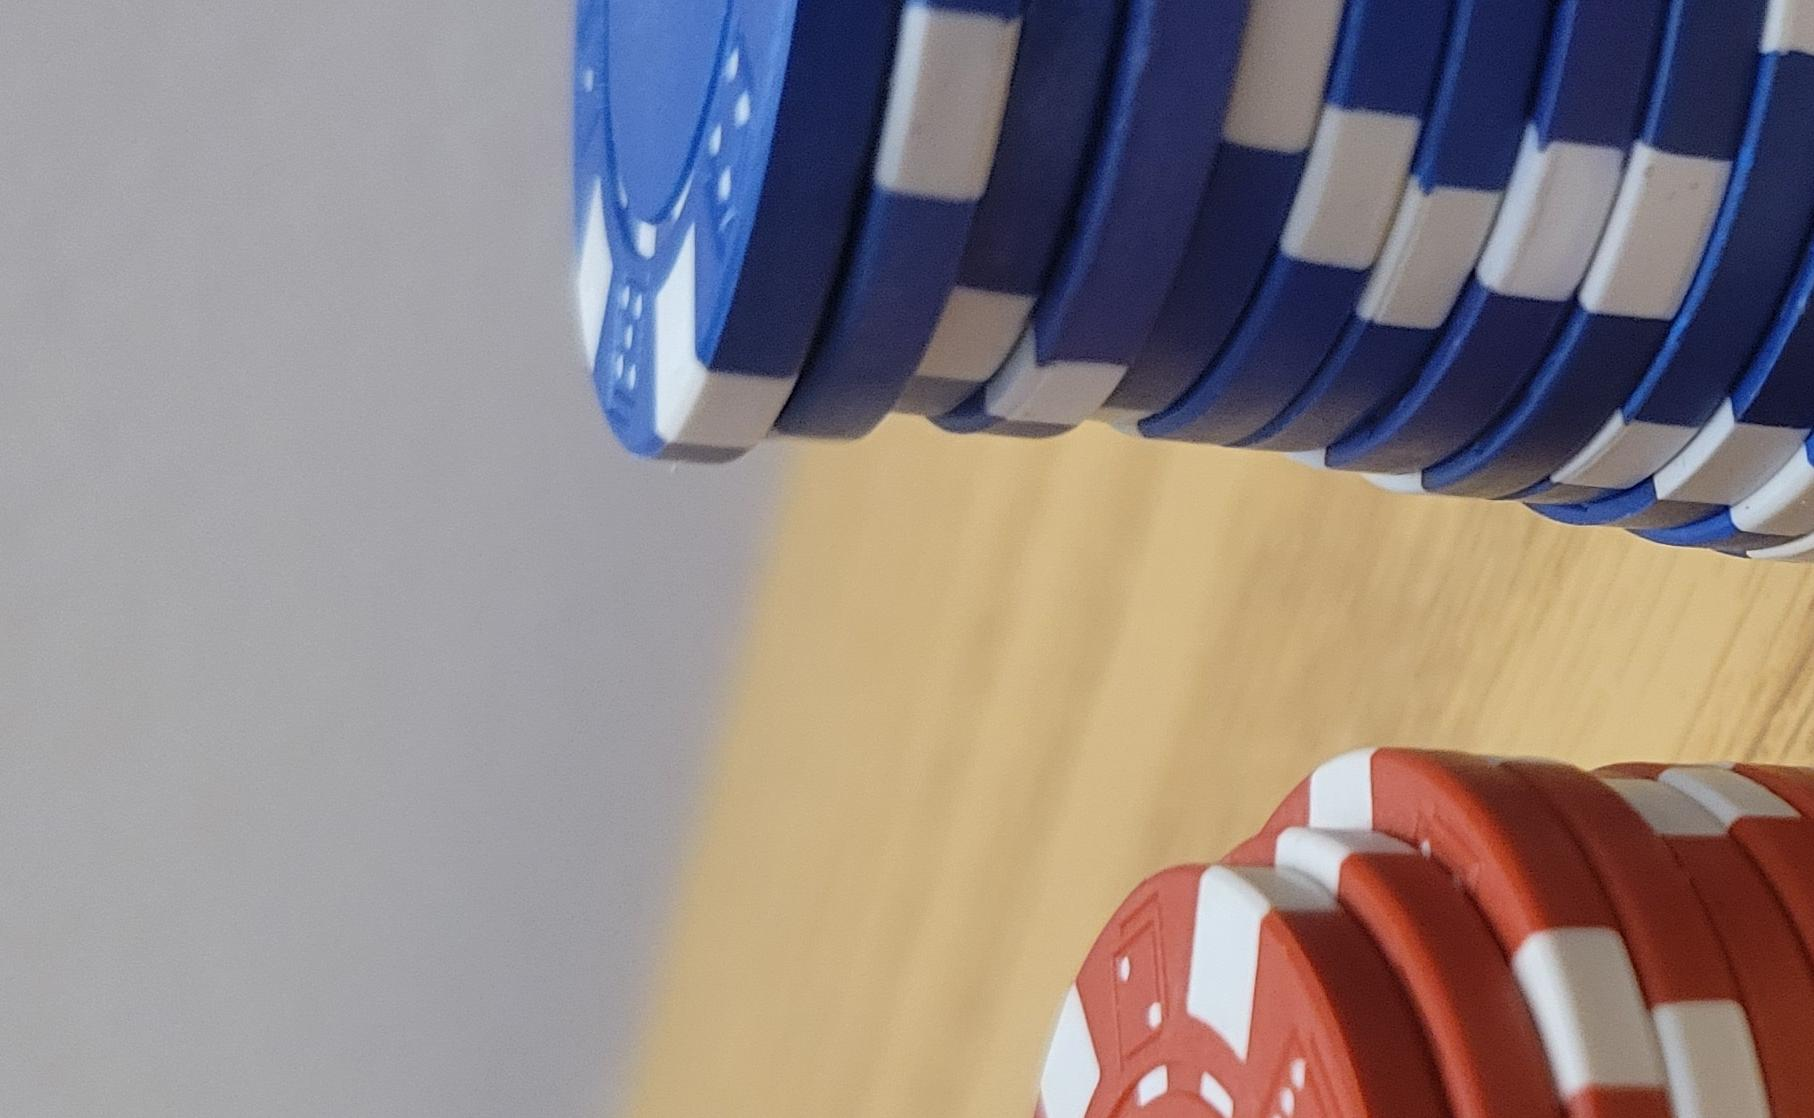Chip: (1, 276, 1315, 1118)
